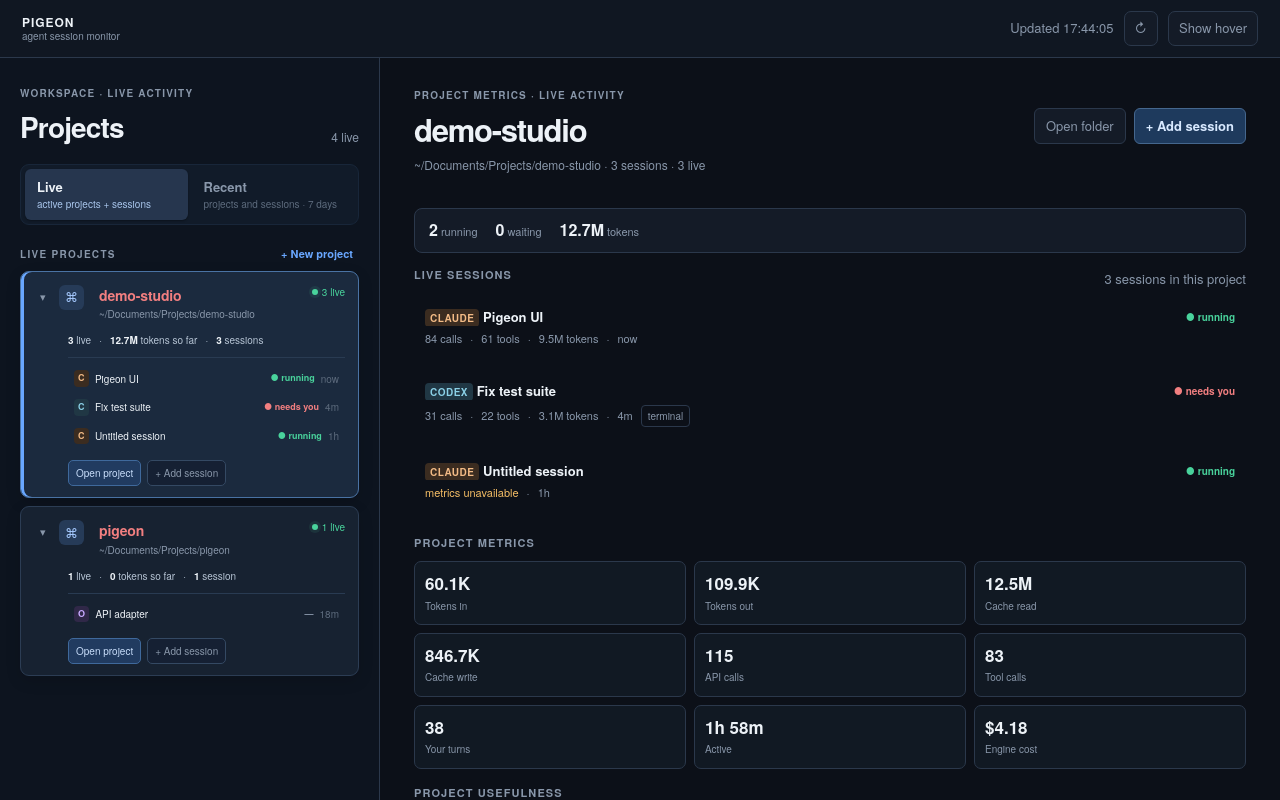
Test case: selecting a session › explains why a session cannot be resumed instead of offering a button that would fail
Expected: the text "API adapter" is shown, [96,607,148,621]
Click the button "O API adapter — 18m" at (122, 614), box [68,601,345,627]
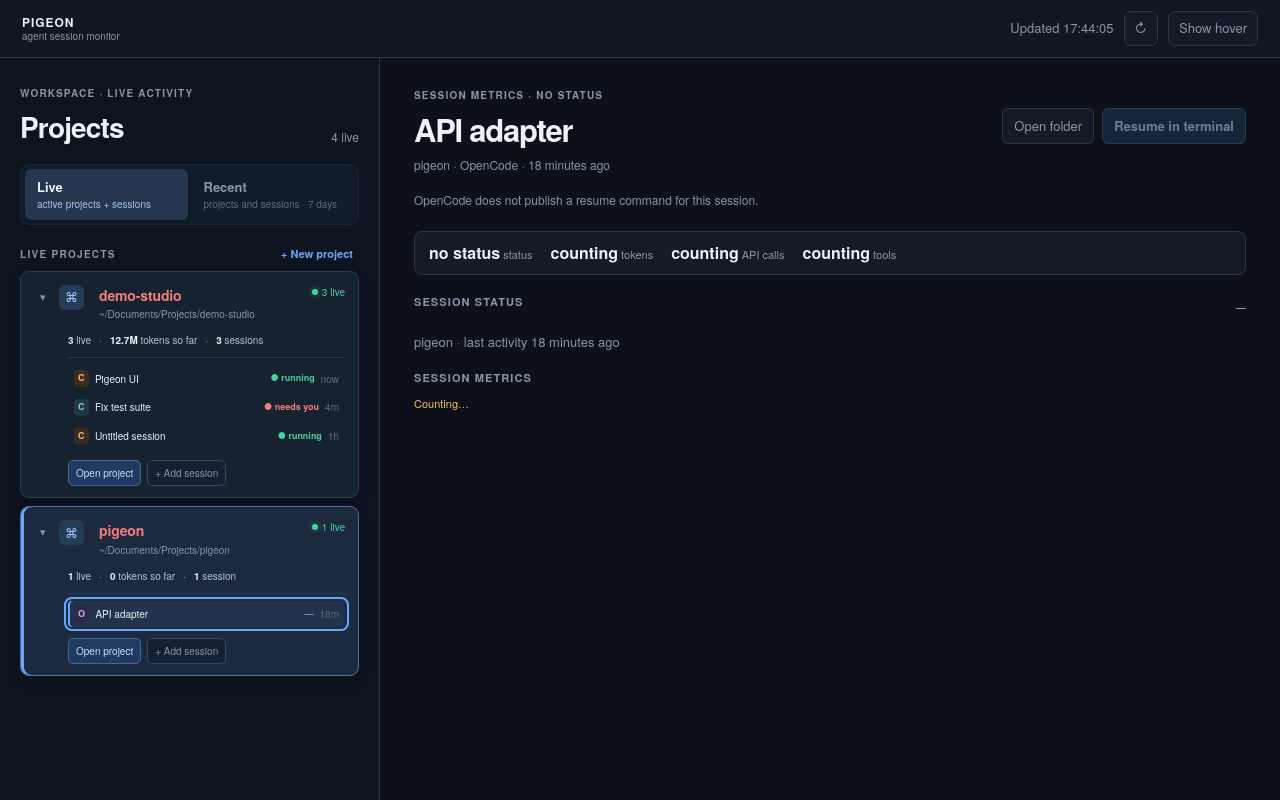
Result: the text with test id "resume-blocked" shows "does not publish a resume" at [414,191,758,208]
Result: the button "Resume in terminal" is disabled at [1102,108,1246,144]
